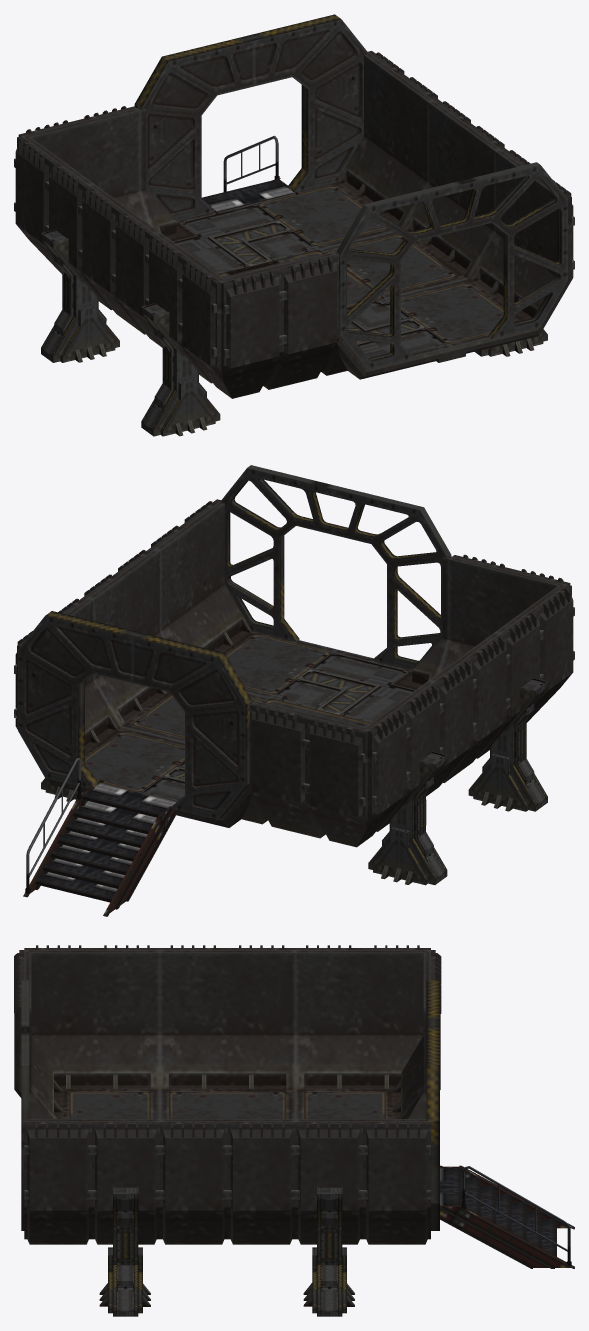
The model's file is Autonomous_unit_3.FBX.
3 views of the same model, one above another, from view 1: azimuth 30°, elevation 25°; view 2: azimuth 150°, elevation 25°; view 3: azimuth 270°, elevation 25° (orthographic).
Parts seen in each view (by area): view 1: Autonomous_unit_3; view 2: Autonomous_unit_3; view 3: Autonomous_unit_3.
Part boxes in pixels (x1,y1,x2,y2): Autonomous_unit_3: (14, 14, 574, 436); Autonomous_unit_3: (14, 465, 574, 916); Autonomous_unit_3: (14, 945, 574, 1316).
Size of the model in its own units: 1024 by 549 by 1242.
